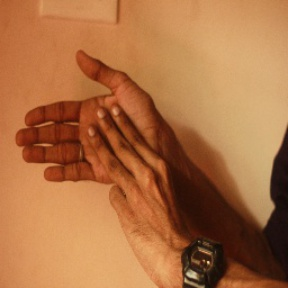M: (12, 49, 182, 192)
